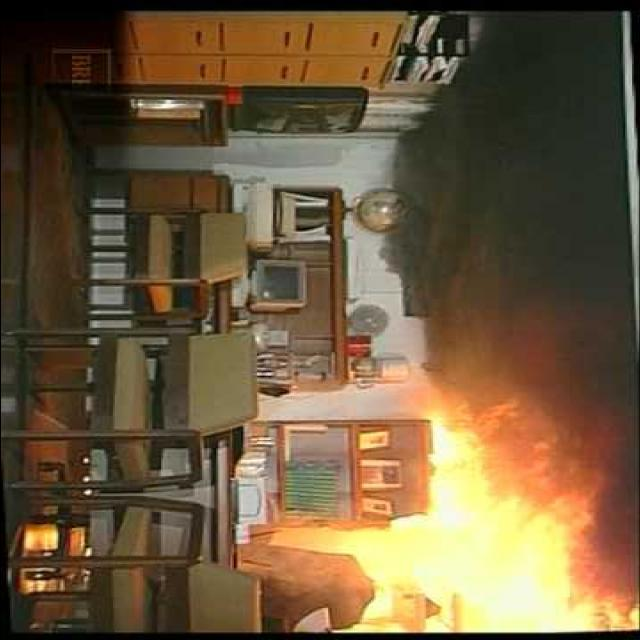Fire: (427, 422, 578, 636)
